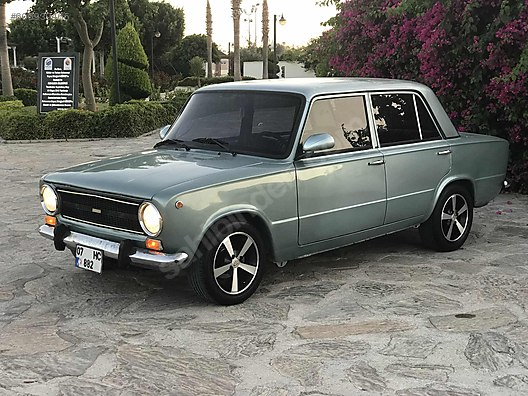murat: (38, 63, 515, 302)
